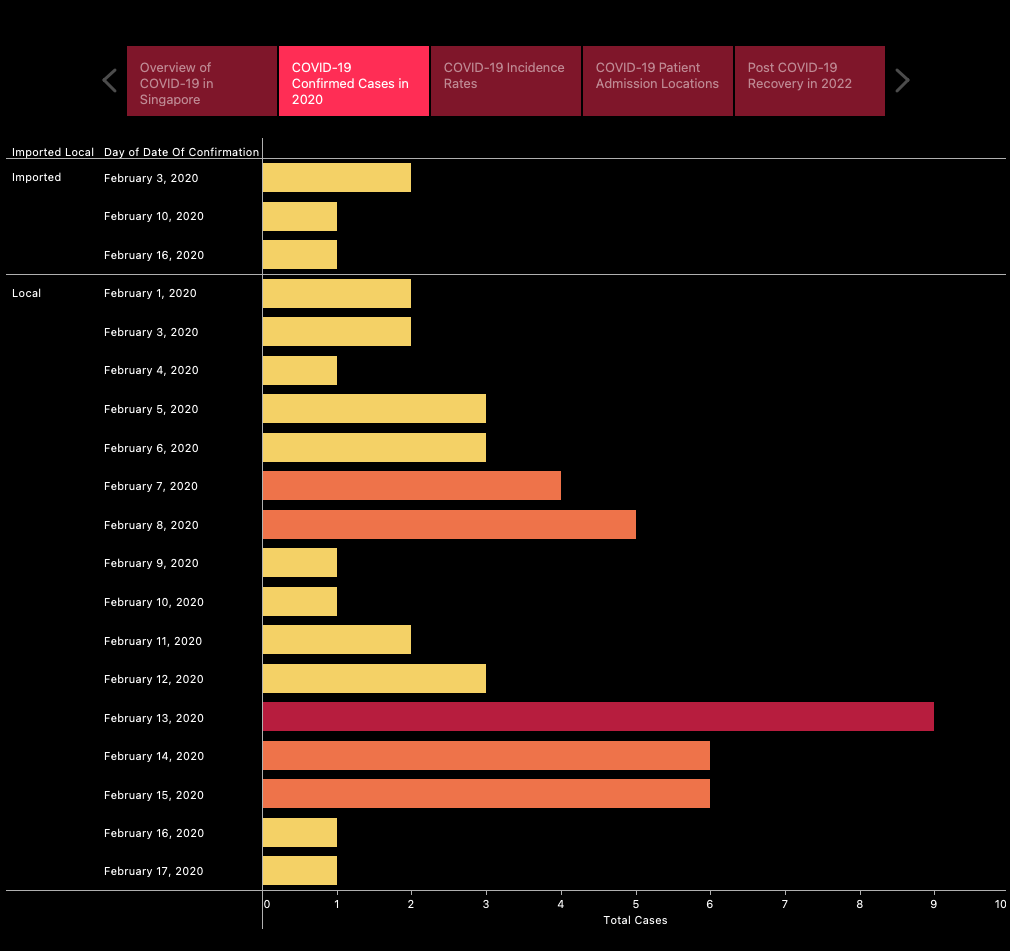

Layout of this report page (visuals, bound fields, positions):
{"tool":"tableau","page":{"name":"Dashboard 2","canvas":[1000,800],"ordinal":1},"visuals":[{"type":"worksheet","title":"COVID-19 Confirmed Cases In 2020","mark":"Bar","rows":["imported_local","date_of_confirmation"],"cols":["case_id"],"box":[0,2,1004,793]},{"type":"legend","title":"COVID-19 Confirmed Cases In 2020","param":"[federated.0vid85t1p1hoss10tvvdq1up0bj8].[cnt:case_id:qk]","box":[8,8,492,784]},{"type":"parameter","param":"[Parameters].[Parameter 1]","box":[500,8,492,784]}]}

Visuals, with their boxes on the page's 1000x800 design canvas (x1, y1, x2, y2). These are canvas units, not pixel positions in the 1010x951 screenshot, which may show the page scaled, cropped or inside an application window:
"COVID-19 Confirmed Cases In 2020" worksheet (Bar marks): 0, 2, 1004, 795
"COVID-19 Confirmed Cases In 2020" legend: 8, 8, 500, 792
parameter: 500, 8, 992, 792
